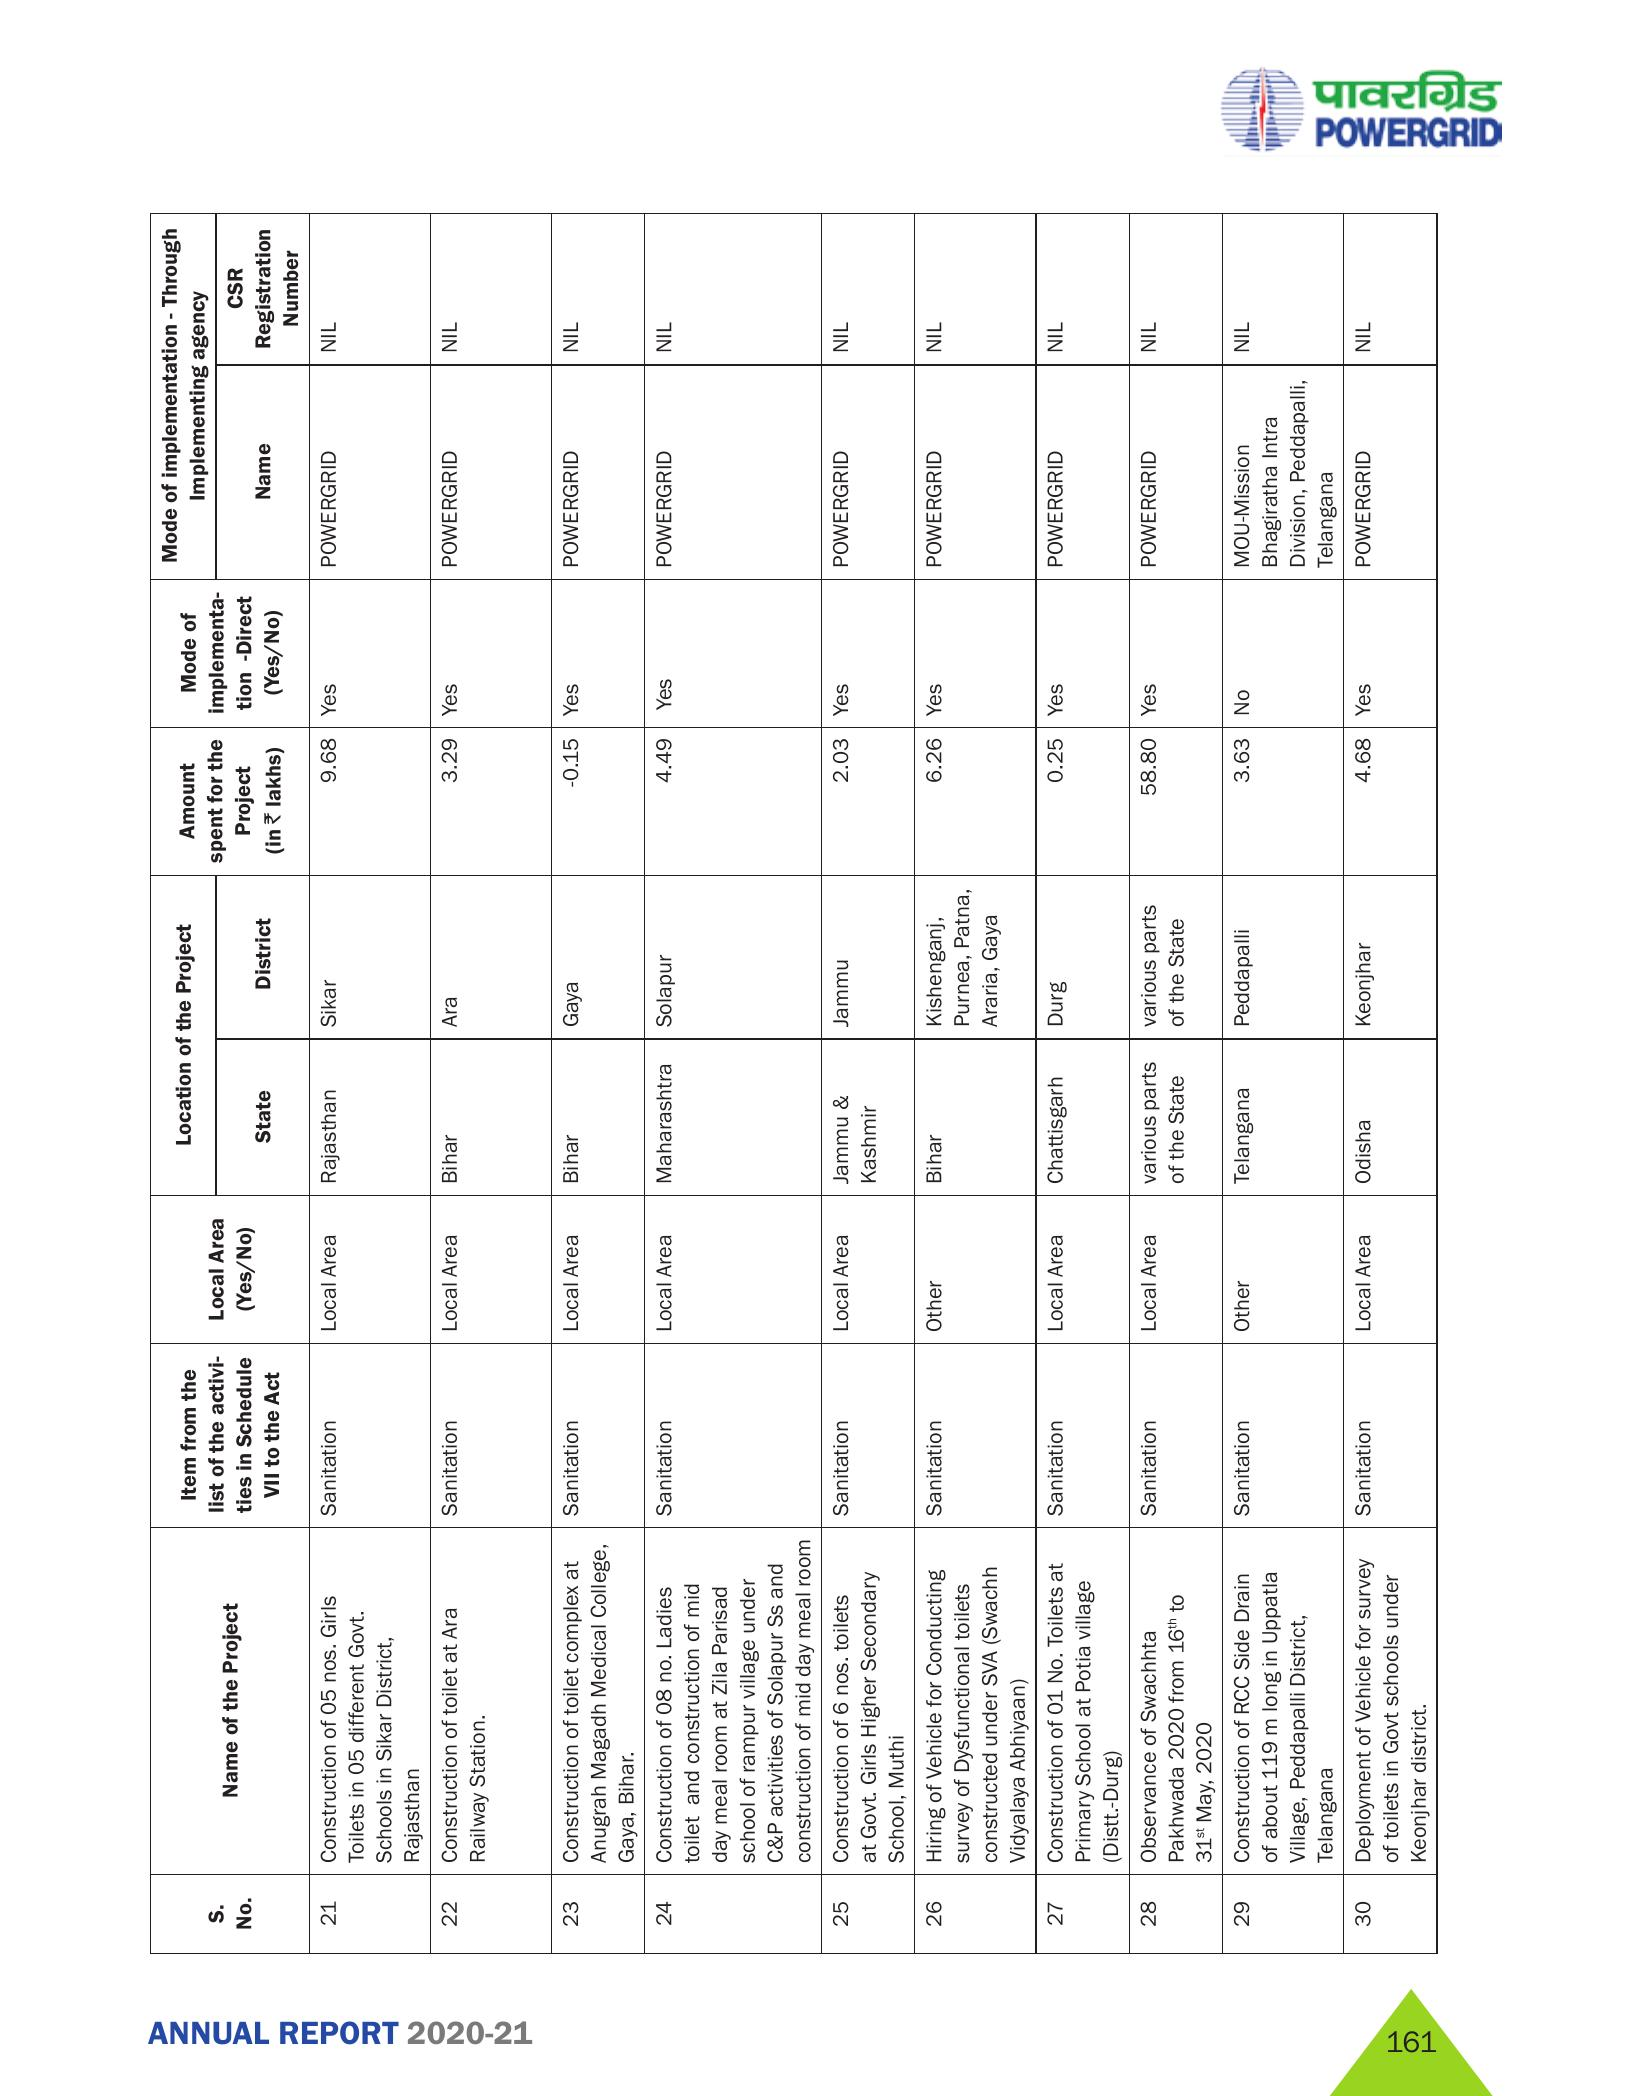Footer: (0, 1956, 1650, 2096)
Header: (0, 0, 1650, 163)
Table: (129, 204, 1458, 1956)
